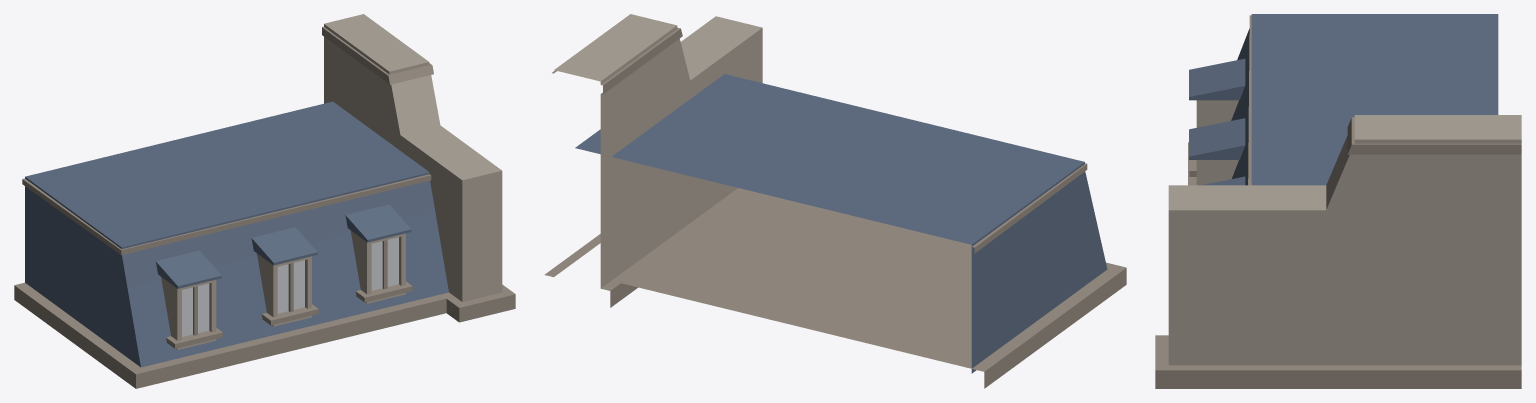
Rendered from building_top.glb.
The picture shows the model from 3 angles, left to right: view 1: azimuth 30°, elevation 25°; view 2: azimuth 150°, elevation 25°; view 3: azimuth 270°, elevation 25°; orthographic projection. The views are drawn at different scales.
Parts seen in each view (by area): view 1: tuiles, cheminee, base, polySurface13 (×3), polySurface12 (×3), polySurface11 (×3), decorations, margelle (×3), cheminee_base, cheminee_top; view 2: tuiles, base, cheminee, cheminee_base, decorations, cheminee_top; view 3: cheminee, tuiles, cheminee_base, polySurface13 (×2), cheminee_top, polySurface12 (×2), decorations.
Part boxes in pixels (left/top/right/bottom): tuiles: left=25, top=101, right=448, bottom=367; cheminee: left=324, top=14, right=502, bottom=301; base: left=14, top=282, right=446, bottom=388; polySurface13 (×3): left=156, top=204, right=411, bottom=288; polySurface12 (×3): left=161, top=230, right=405, bottom=349; polySurface11 (×3): left=182, top=237, right=398, bottom=336; decorations: left=22, top=174, right=431, bottom=255; margelle (×3): left=166, top=281, right=412, bottom=348; cheminee_base: left=441, top=284, right=515, bottom=322; cheminee_top: left=322, top=26, right=433, bottom=84; tuiles: left=575, top=74, right=1107, bottom=373; base: left=621, top=190, right=1126, bottom=388; cheminee: left=554, top=14, right=762, bottom=288; cheminee_base: left=544, top=188, right=747, bottom=307; decorations: left=972, top=163, right=1087, bottom=253; cheminee_top: left=552, top=27, right=682, bottom=94; cheminee: left=1168, top=115, right=1521, bottom=365; tuiles: left=1231, top=14, right=1498, bottom=185; cheminee_base: left=1155, top=335, right=1521, bottom=388; polySurface13 (×2): left=1189, top=58, right=1245, bottom=159; cheminee_top: left=1347, top=117, right=1521, bottom=154; polySurface12 (×2): left=1196, top=100, right=1238, bottom=185; decorations: left=1248, top=15, right=1251, bottom=185.
Bounding box in the file's own units: 10.57 × 5.27 × 7.17.
